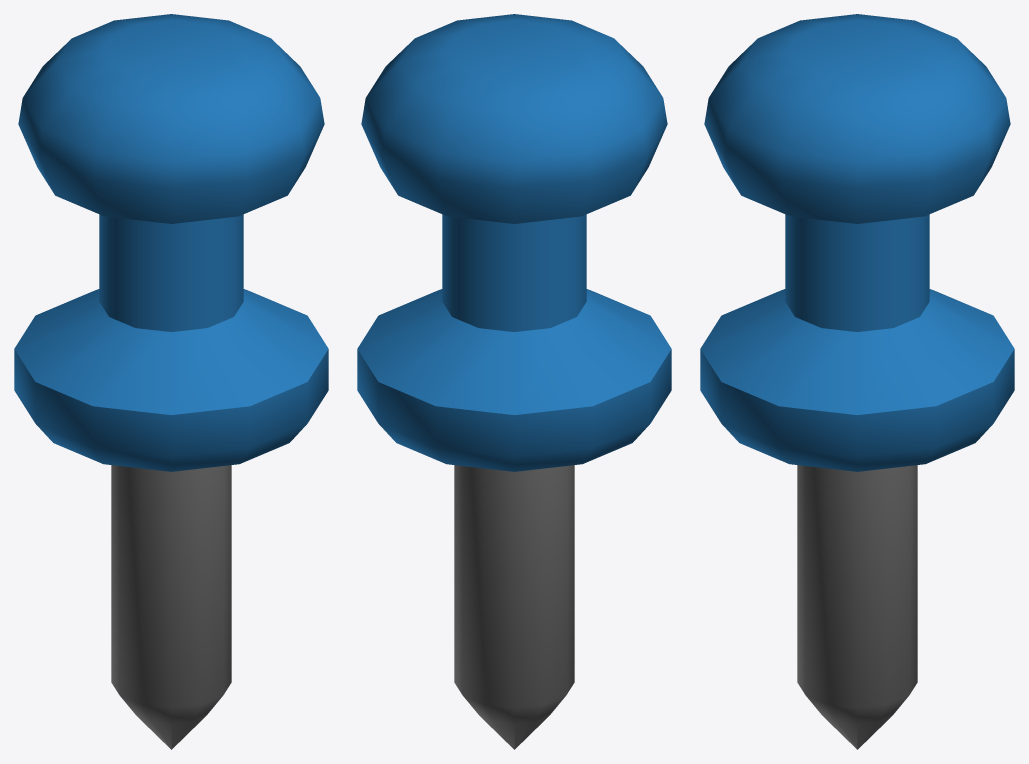
The model's file is Pin_2.fbx.
3 renders of one model, left to right at view 1: azimuth 30°, elevation 25°; view 2: azimuth 150°, elevation 25°; view 3: azimuth 270°, elevation 25°, orthographic.
Visible parts, largest first — view 1: Pin_2; view 2: Pin_2; view 3: Pin_2.
Part boxes in pixels (bbox=[...]): Pin_2: bbox=[14, 14, 328, 749]; Pin_2: bbox=[357, 14, 671, 749]; Pin_2: bbox=[700, 14, 1014, 749].
Bounding box in the file's own units: 0.067 × 0.1647 × 0.067.
